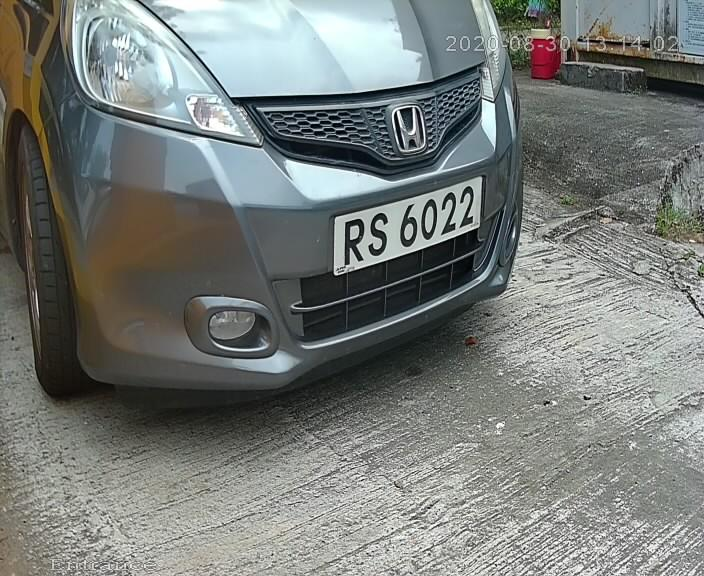License Plate: (331, 178, 481, 283)
